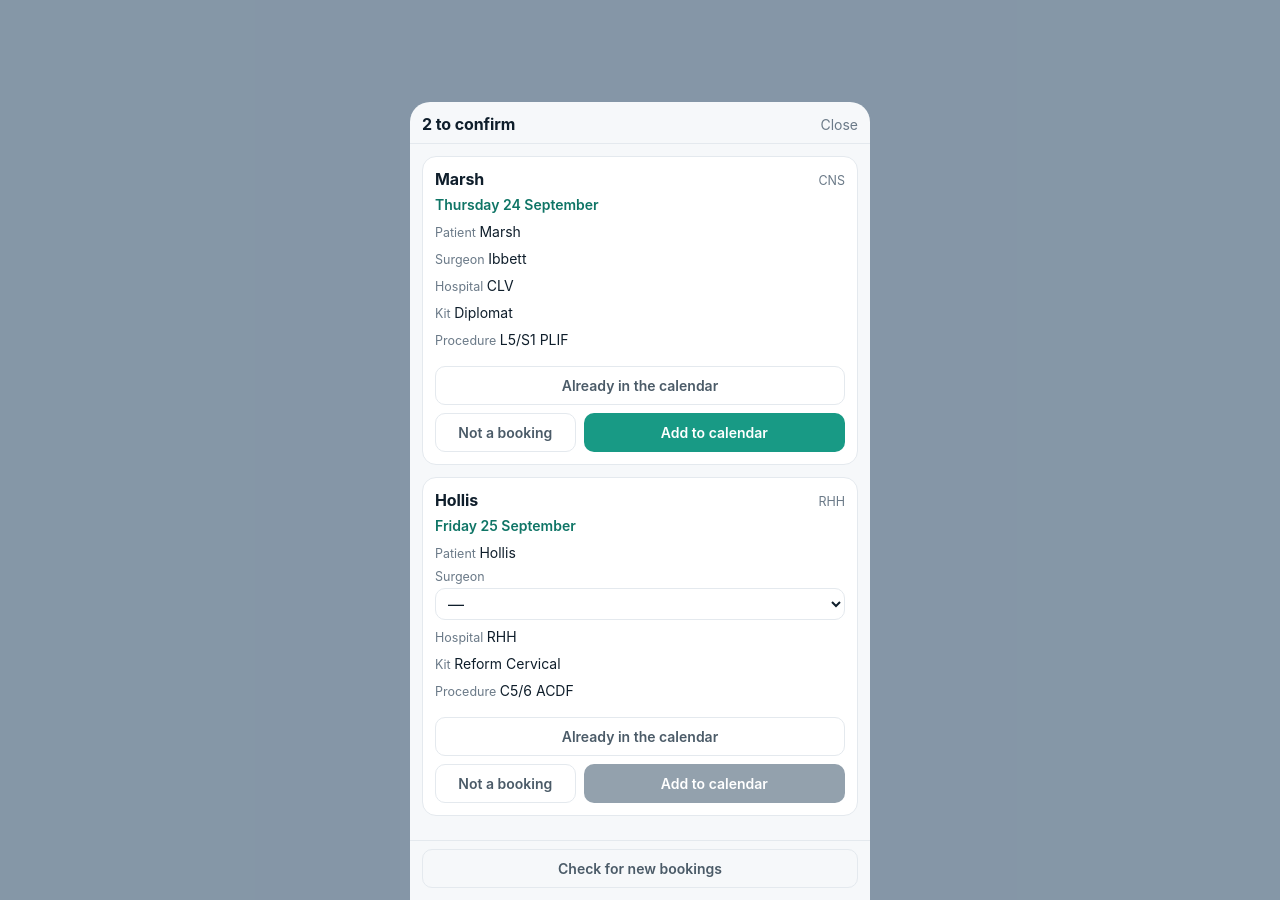
Scenario: nothing reaches the calendar unseen › takes an accepted card off the list
The image size is (1280, 900).
Expected: the text "Marsh" next to "CNS" is shown, [435,168,484,188]
What coordinates should you click on to do the following:
click the button "Add to calendar" below "Thursday 24 September"
I would click on:
 (714, 433)
Its box is [584,413,845,452].
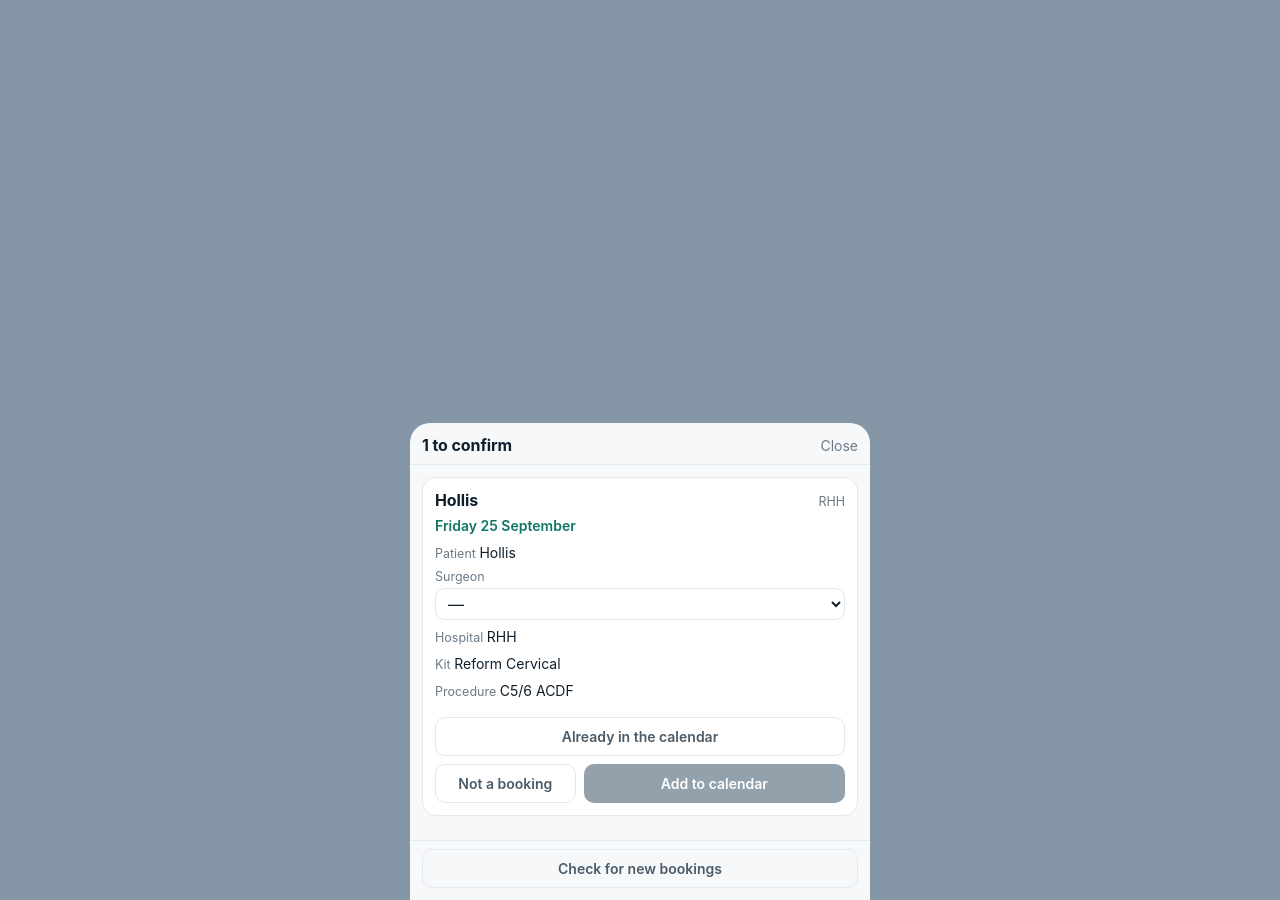
Expected: the 1st text "Hollis" is shown, [435,490,478,510]
Now the text "Marsh" is not shown
